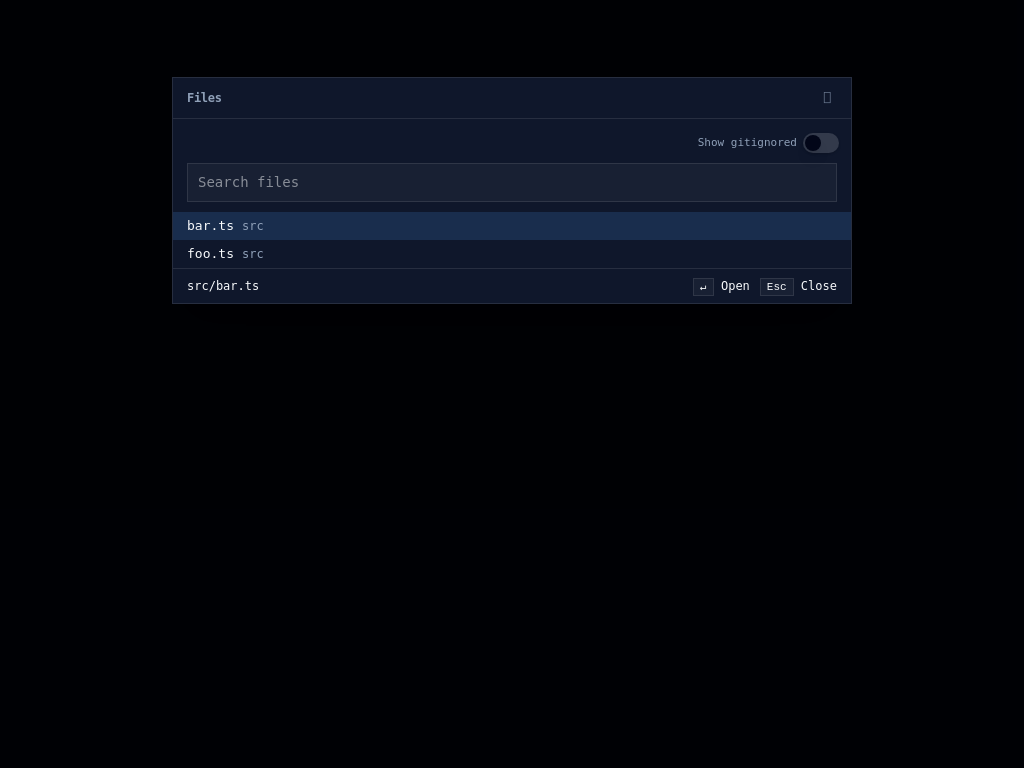
FilesOverlay — search › filters the list as the user types
expect the text "foo.ts" is shown: met, box 187,244 -> 234,264
Step 1. Type "foo" into the field with placeholder "Search files" → [512, 182], box 187,163 -> 837,202
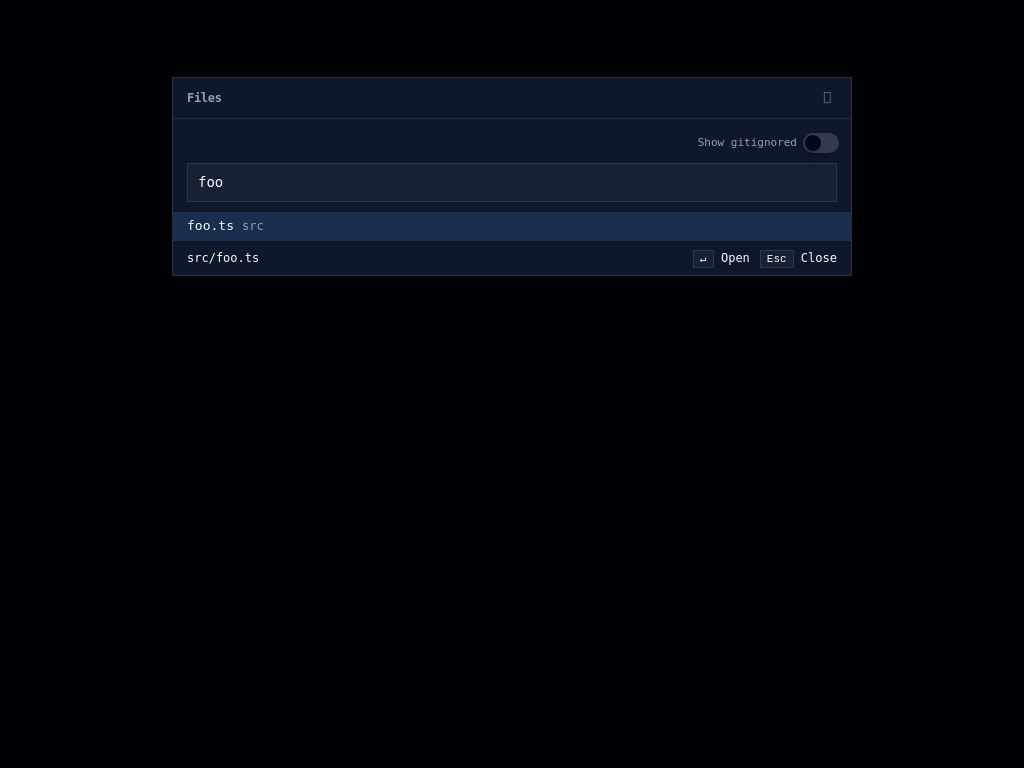
expect the text "foo.ts" is shown: met, box 187,216 -> 234,236
expect the text "bar.ts" is gone: met
